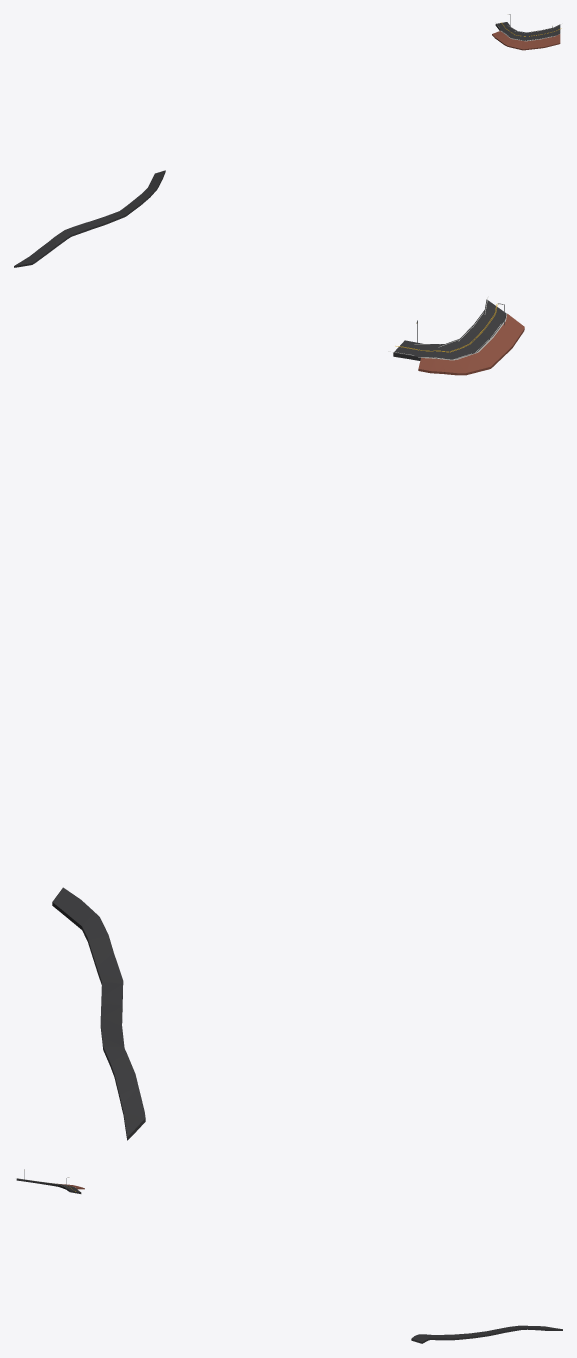
The picture shows the model from 3 angles, top to bottom: view 1: azimuth 90°, elevation 25°; view 2: azimuth 150°, elevation 25°; view 3: azimuth 270°, elevation 25°; orthographic projection. The views are drawn at different scales.
Bounding box in the file's own units: 73.76 × 130 × 317.
